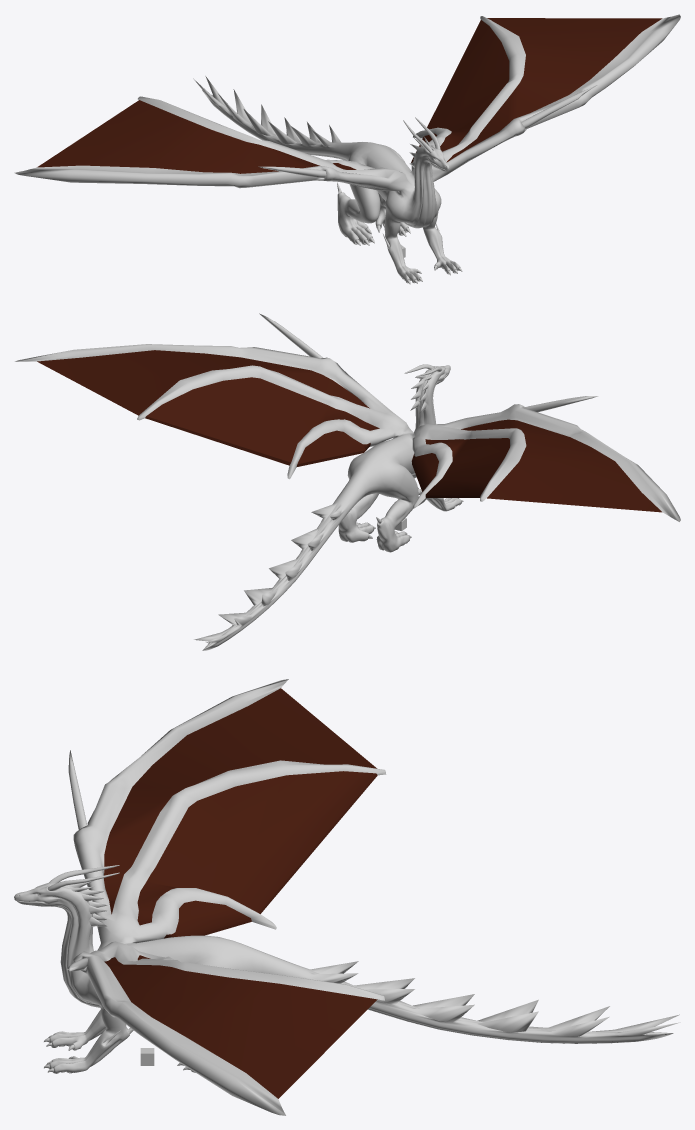
File: Dragon.obj
3 views of the same model, one above another, from view 1: azimuth 30°, elevation 25°; view 2: azimuth 150°, elevation 25°; view 3: azimuth 270°, elevation 25° (orthographic). The views are drawn at different scales.
Parts seen in each view (by area): view 1: Cube.001_Cube.004; view 2: Cube.001_Cube.004; view 3: Cube.001_Cube.004.
Part boxes in pixels (x1=…): Cube.001_Cube.004: x1=14, y1=14, x2=680, y2=284; Cube.001_Cube.004: x1=15, y1=313, x2=680, y2=650; Cube.001_Cube.004: x1=14, y1=679, x2=680, y2=1115.
Bounding box in the file's own units: 151 × 33.15 × 98.54.
